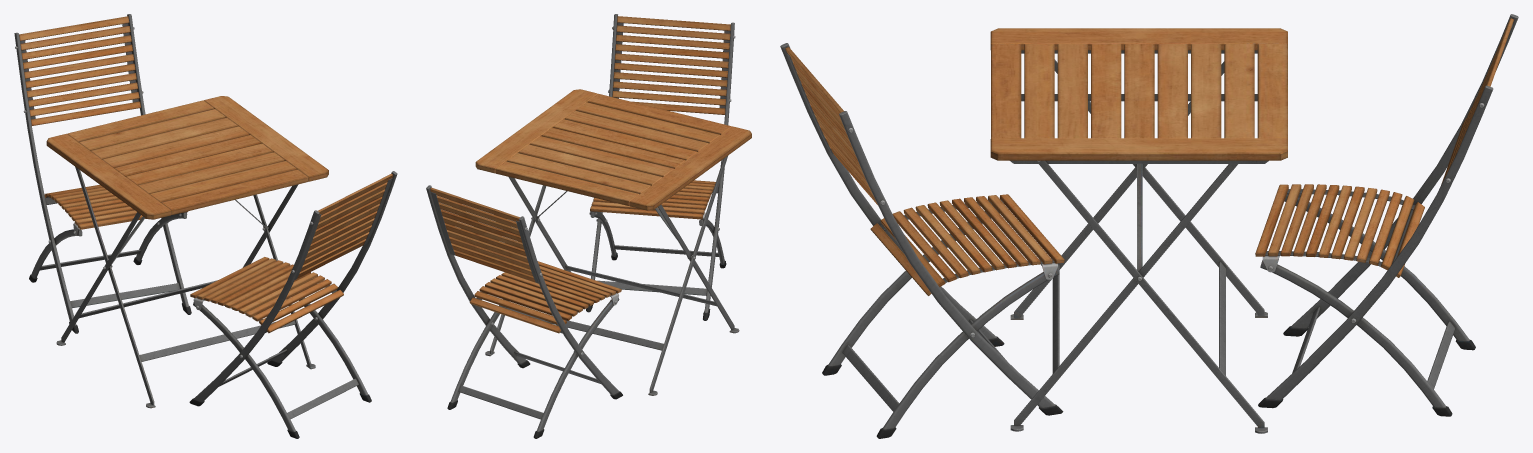
File: outdoor-set.glb
The picture shows the model from 3 angles, left to right: view 1: azimuth 30°, elevation 25°; view 2: azimuth 150°, elevation 25°; view 3: azimuth 270°, elevation 25°; orthographic projection. The views are drawn at different scales.
Visible parts, largest first — view 1: outdoor_table_chair_set_01_table, outdoor_table_chair_set_01_chair_02, outdoor_table_chair_set_01_chair_01; view 2: outdoor_table_chair_set_01_table, outdoor_table_chair_set_01_chair_02, outdoor_table_chair_set_01_chair_01; view 3: outdoor_table_chair_set_01_table, outdoor_table_chair_set_01_chair_01, outdoor_table_chair_set_01_chair_02.
Boxes of the visible parts, x1,y1,x2,y2 form: outdoor_table_chair_set_01_table: (46,96,328,408); outdoor_table_chair_set_01_chair_02: (14,14,191,333); outdoor_table_chair_set_01_chair_01: (189,171,397,438); outdoor_table_chair_set_01_table: (475,89,751,395); outdoor_table_chair_set_01_chair_02: (426,185,622,438); outdoor_table_chair_set_01_chair_01: (586,14,735,320); outdoor_table_chair_set_01_table: (990,28,1287,433); outdoor_table_chair_set_01_chair_01: (780,43,1064,438); outdoor_table_chair_set_01_chair_02: (1255,14,1518,416).
Bounding box in the file's own units: 0.7417 × 0.8586 × 1.72.
Materials: 2 (2 with a texture image).
